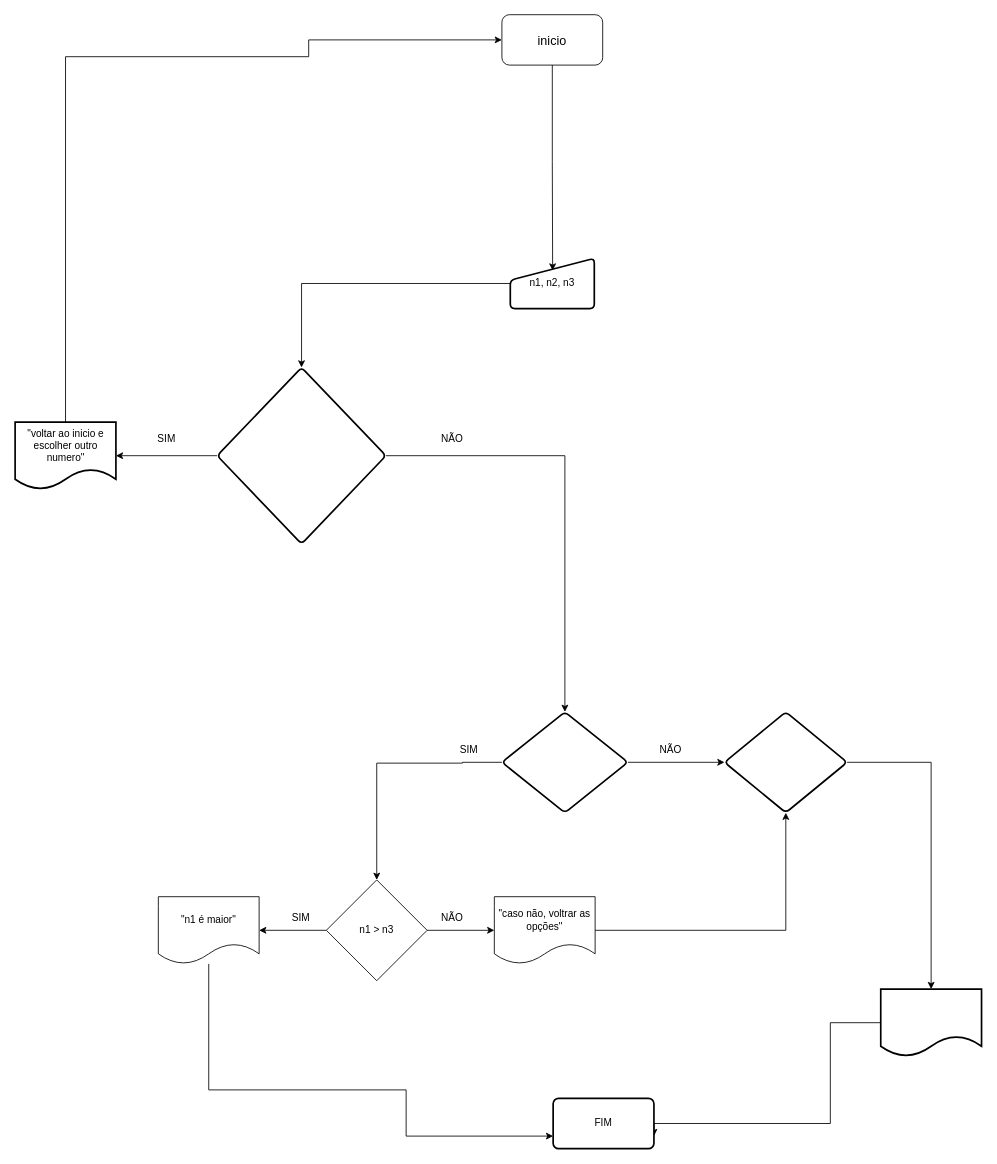
This 997x1164 diagram has some shape labels left out. The box of each missing label's shape, as (x1, y1, x2, y2) in pixels:
"n3 é o maior": (879, 988, 982, 1057)
n1 == n2 e n2 == n3 e n3 == n1: (216, 366, 386, 544)
n1 > n2: (501, 711, 628, 813)
n2 > n3: (723, 711, 848, 813)
